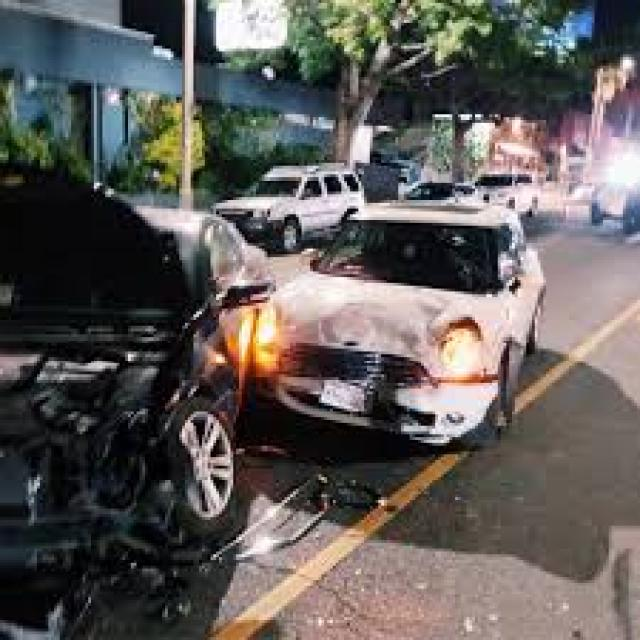accident: (4, 98, 485, 611)
